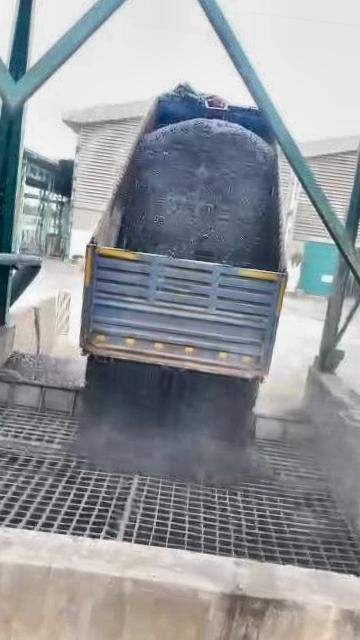gravel: (118, 117, 280, 269), (73, 362, 254, 485), (0, 351, 83, 388)
